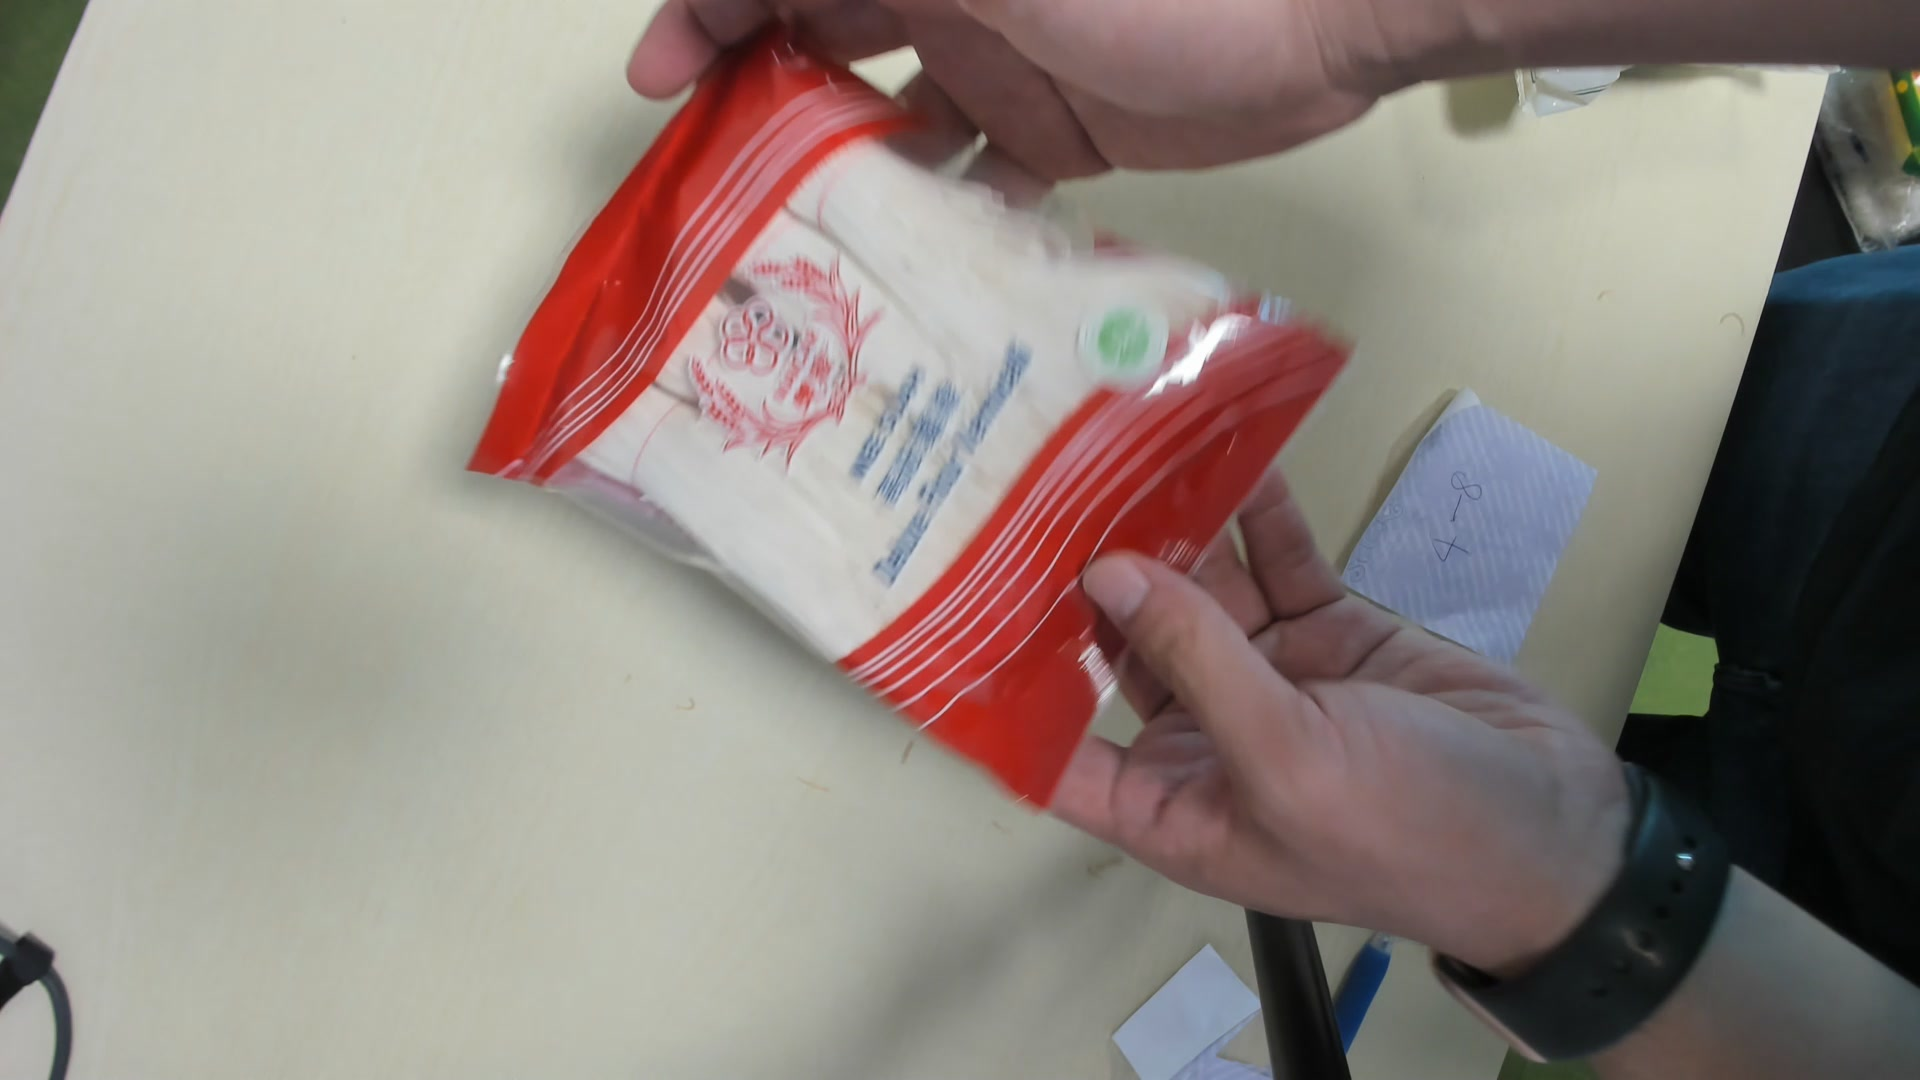BeeHoonVermicelli_100-199g_Halal_NonHealthy: (471, 28, 1360, 816)
